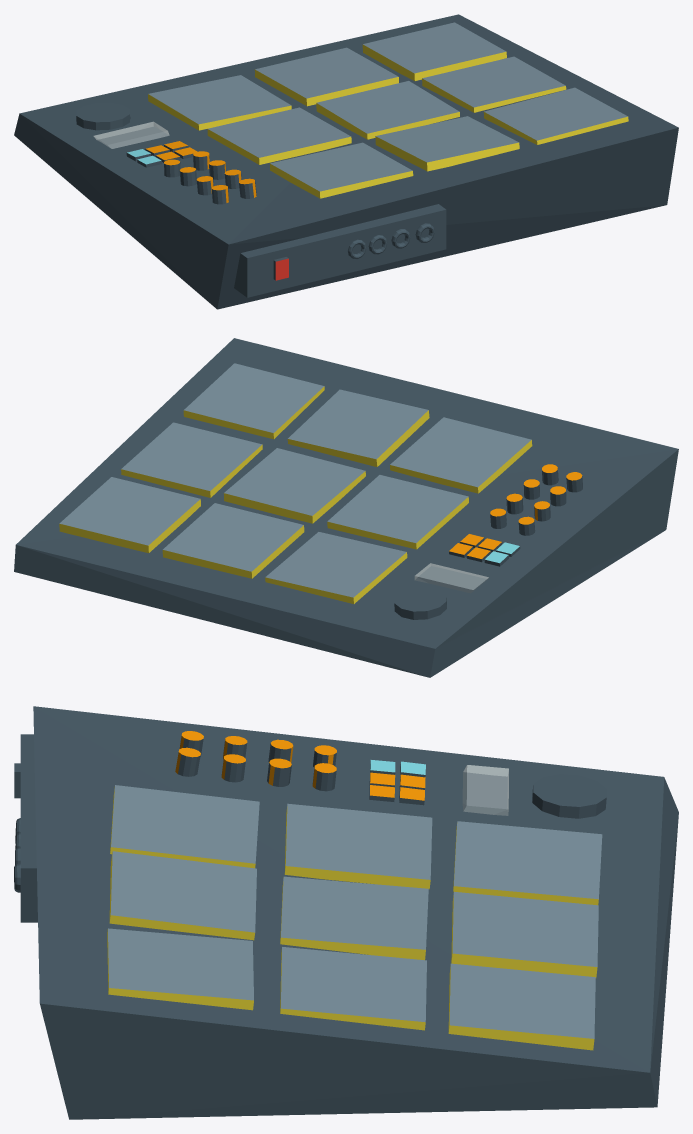
The model's file is Drum Machine (without stand).glb.
The picture shows the model from 3 angles, top to bottom: view 1: azimuth 30°, elevation 25°; view 2: azimuth 150°, elevation 25°; view 3: azimuth 270°, elevation 25°; orthographic projection. The views are drawn at different scales.
Parts seen in each view (by area): view 1: group2045103780, group273564800, group1149581205, group727357565, group1132015495, group1441970887, group487033561, group429365395, group968990847, group211396980, group1335247664, group1133021644 (+1 smaller); view 2: group2045103780, group429365395, group1149581205, group1132015495, group968990847, group727357565, group487033561, group1441970887, group1335247664, group211396980, group1133021644, group14101012; view 3: group2045103780, group429365395, group1132015495, group1149581205, group1441970887, group211396980, group727357565, group1335247664, group487033561, group968990847, group273564800, group1133021644 (+3 smaller).
Part boxes in pixels (left/top/right/bottom): group2045103780: left=14, top=14, right=678, bottom=309; group273564800: left=234, top=204, right=446, bottom=297; group1149581205: left=362, top=22, right=506, bottom=80; group727357565: left=316, top=81, right=459, bottom=139; group1132015495: left=254, top=47, right=398, bottom=106; group1441970887: left=207, top=107, right=351, bottom=164; group487033561: left=483, top=87, right=628, bottom=144; group429365395: left=375, top=116, right=519, bottom=171; group968990847: left=269, top=142, right=413, bottom=198; group211396980: left=148, top=75, right=291, bottom=130; group1335247664: left=422, top=56, right=566, bottom=112; group1133021644: left=76, top=102, right=130, bottom=130; group2045103780: left=14, top=338, right=678, bottom=677; group429365395: left=287, top=389, right=429, bottom=466; group1149581205: left=59, top=477, right=200, bottom=553; group1132015495: left=162, top=503, right=304, bottom=578; group968990847: left=390, top=417, right=532, bottom=493; group727357565: left=223, top=448, right=365, bottom=523; group487033561: left=183, top=363, right=324, bottom=439; group1441970887: left=327, top=475, right=468, bottom=549; group1335247664: left=121, top=422, right=262, bottom=497; group211396980: left=265, top=532, right=407, bottom=603; group1133021644: left=394, top=586, right=446, bottom=619; group14101012: left=414, top=563, right=488, bottom=592; group2045103780: left=33, top=706, right=678, bottom=1119; group429365395: left=109, top=851, right=256, bottom=940; group1132015495: left=451, top=891, right=598, bottom=977; group1149581205: left=448, top=963, right=595, bottom=1050; group1441970887: left=284, top=803, right=432, bottom=889; group211396980: left=453, top=821, right=602, bottom=905; group727357565: left=280, top=876, right=428, bottom=960; group1335247664: left=280, top=947, right=426, bottom=1030; group487033561: left=107, top=928, right=253, bottom=1010; group968990847: left=110, top=785, right=259, bottom=868; group273564800: left=20, top=734, right=37, bottom=922; group1133021644: left=532, top=774, right=606, bottom=818.
Bounding box in the file's own units: 1.73 × 0.3126 × 1.6.
